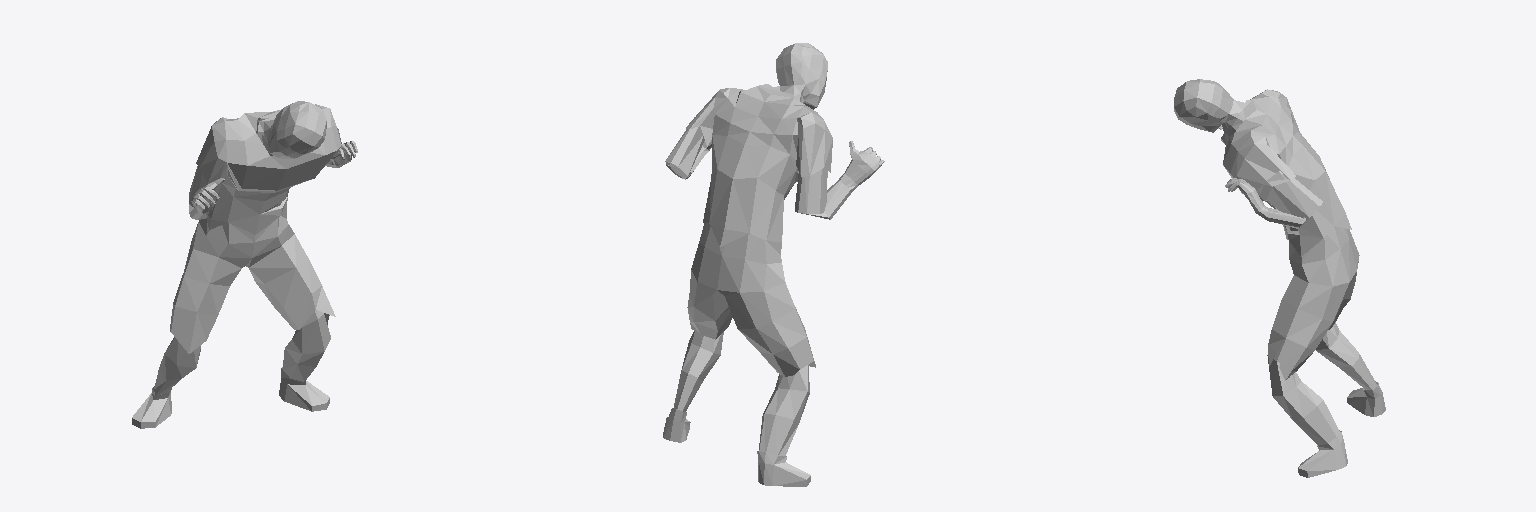
File: ZombieAttack(64).obj
3 renders of one model, left to right at view 1: azimuth 30°, elevation 25°; view 2: azimuth 150°, elevation 25°; view 3: azimuth 270°, elevation 25°, orthographic.
Parts seen in each view (by area): view 1: Object001; view 2: Object001; view 3: Object001.
Boxes of the visible parts, x1,y1,x2,y2 form: Object001: [132, 101, 357, 428]; Object001: [663, 43, 884, 486]; Object001: [1174, 79, 1385, 477].
Size of the model in its own units: 25.87 by 50.22 by 26.83.